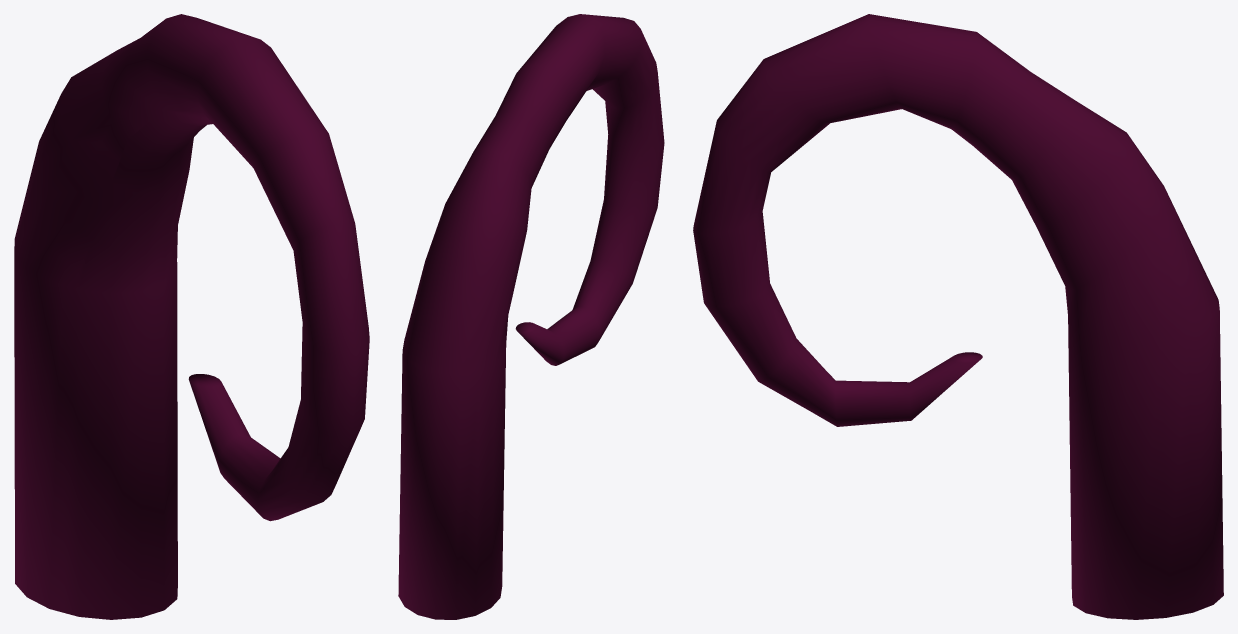
The model's file is ShortLightStick.fbx.
3 renders of one model, left to right at view 1: azimuth 30°, elevation 25°; view 2: azimuth 150°, elevation 25°; view 3: azimuth 270°, elevation 25°, orthographic. The views are drawn at different scales.
Visible parts, largest first — view 1: ShortLightStick; view 2: ShortLightStick; view 3: ShortLightStick.
Boxes of the visible parts, box(x1,y1,x2,y2) form: ShortLightStick: box(14, 14, 369, 619); ShortLightStick: box(398, 14, 664, 619); ShortLightStick: box(693, 14, 1223, 619).
Size of the model in its own units: 60.44 by 303 by 254.
